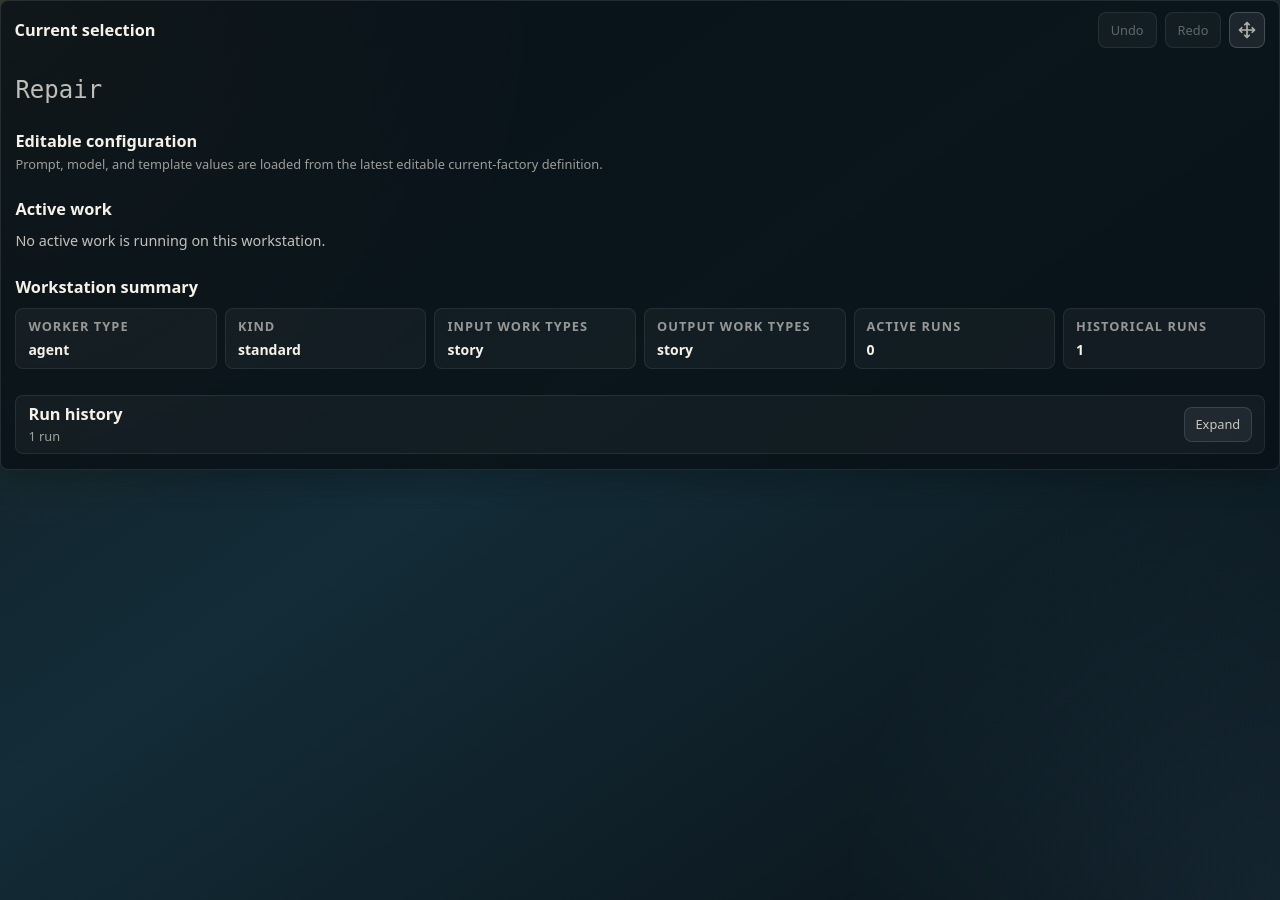
Scenario: WorkstationDetailCard › keeps non-repeater rejected history labeled as rejected
The image size is (1280, 900).
Click the button "Expand" at coordinates (1218, 424), box [1184,407,1252,442]
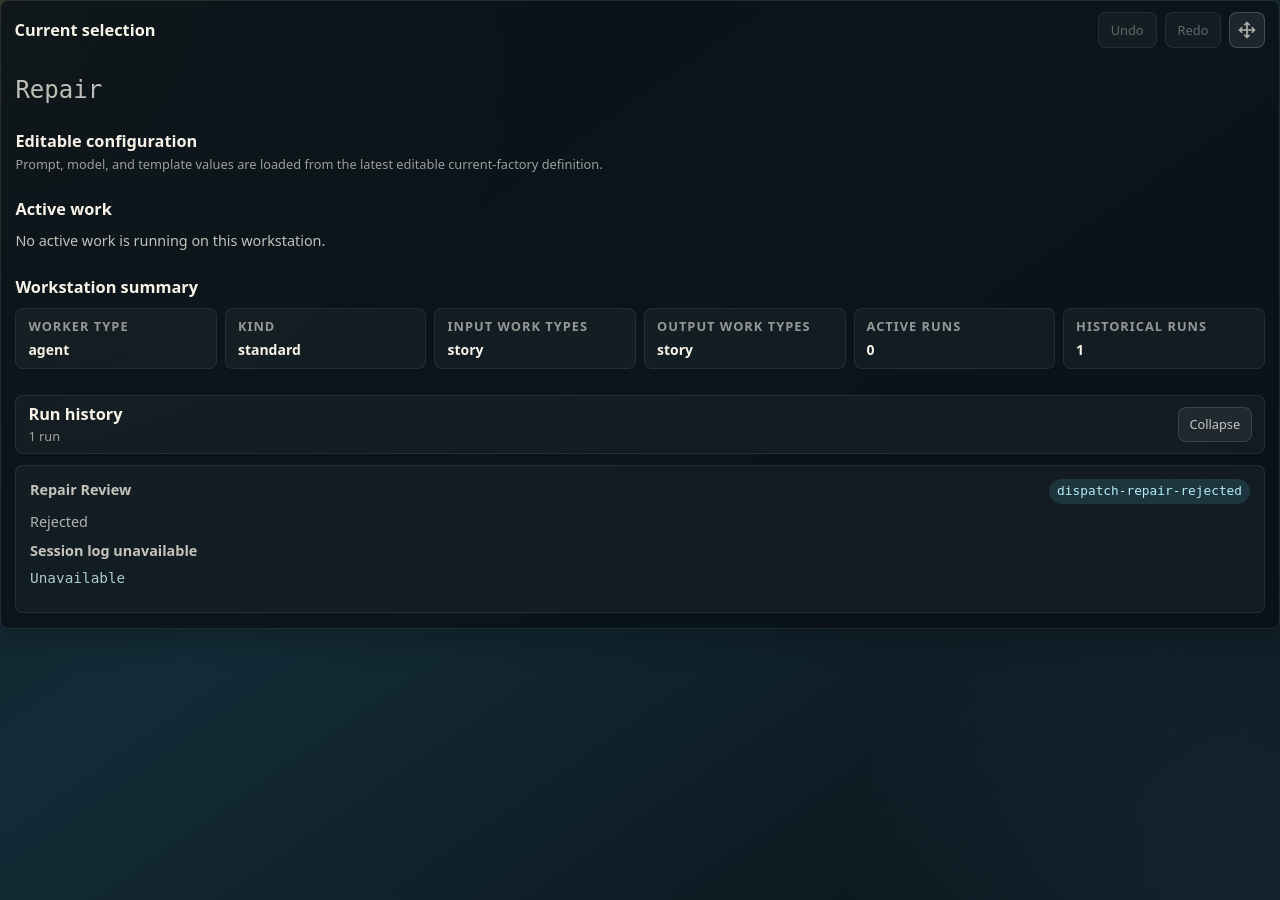
Now the text "Rejected" is shown, box [30,511,88,533]
